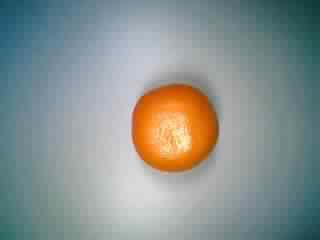orange: (124, 83, 221, 179)
